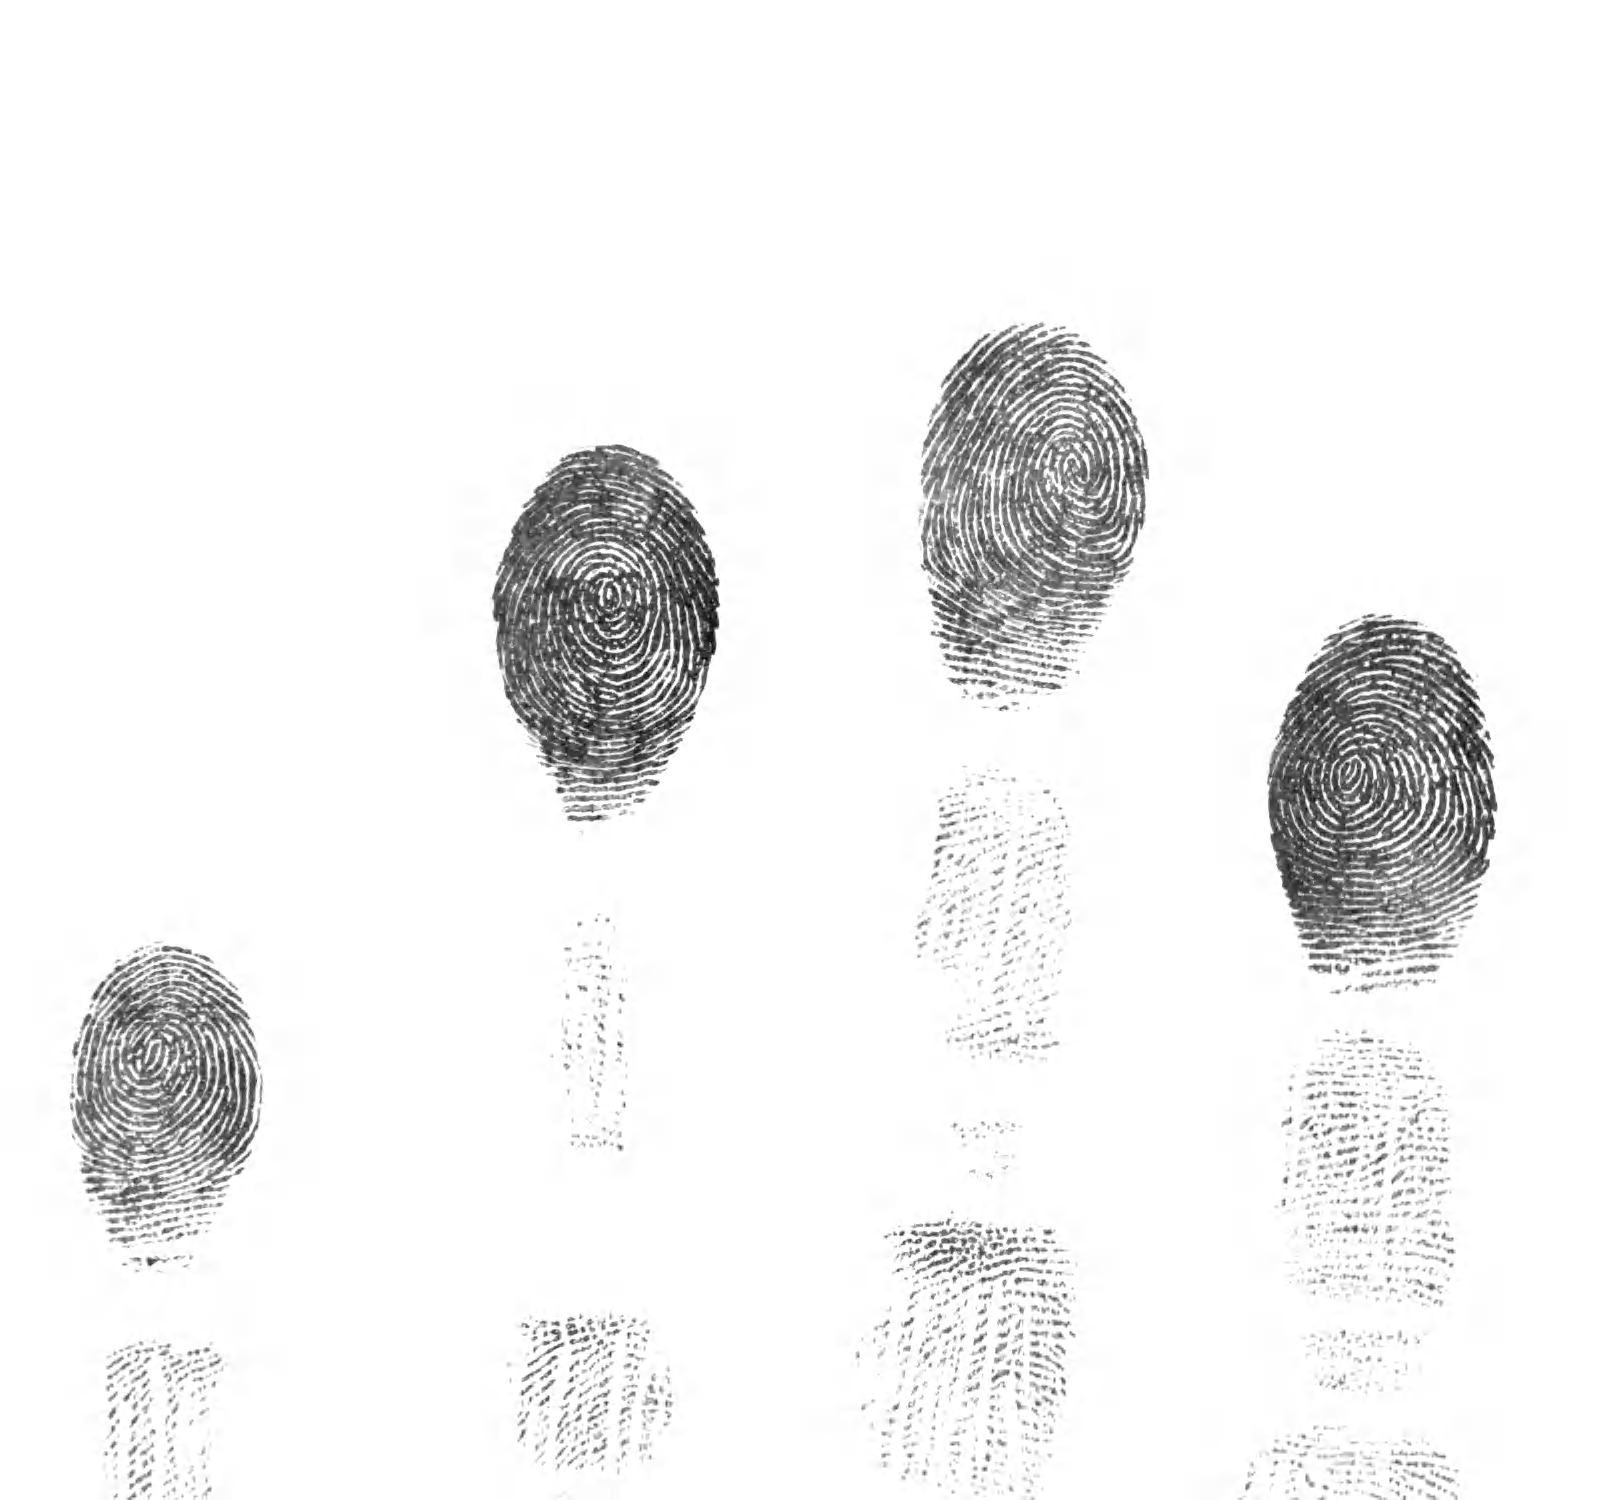distal: (475, 424, 749, 842), (906, 307, 1164, 739), (1233, 599, 1510, 998), (58, 923, 293, 1284)
proximal: (902, 761, 1119, 1184), (467, 878, 747, 1194), (1264, 1009, 1499, 1382), (61, 1301, 271, 1500)
